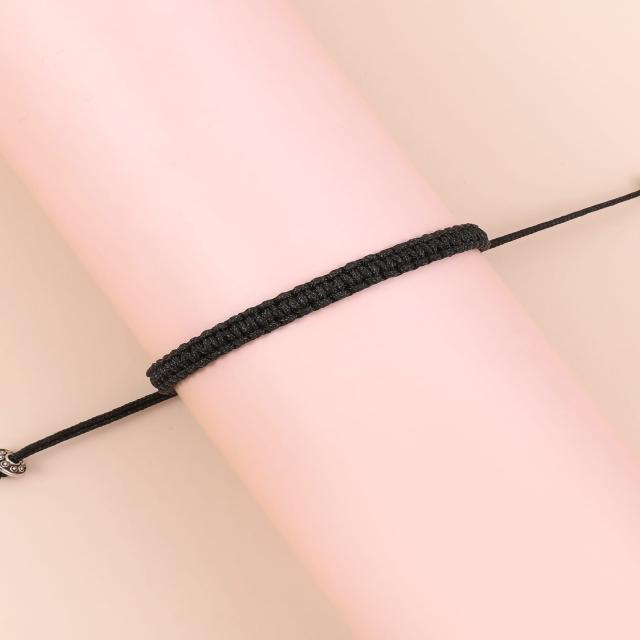bracelet: (5, 148, 640, 514)
